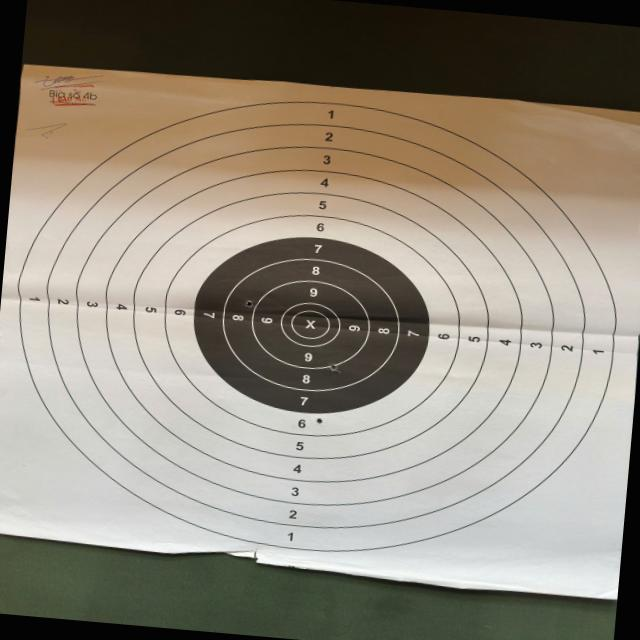bullet: (329, 364, 338, 371), (245, 302, 253, 306), (316, 418, 322, 423)
target: (0, 64, 640, 598)
